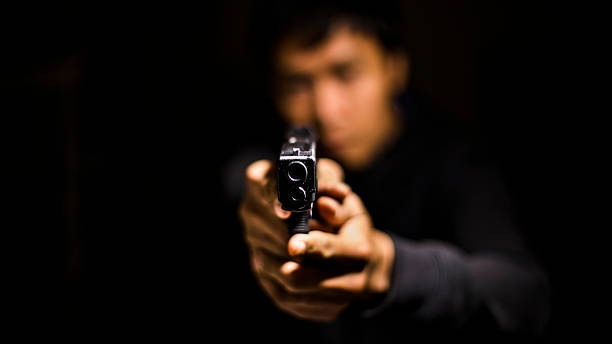gun: (244, 125, 352, 320)
